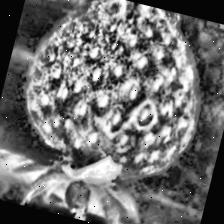Powdery Mildew Fruit: (7, 0, 223, 196)
